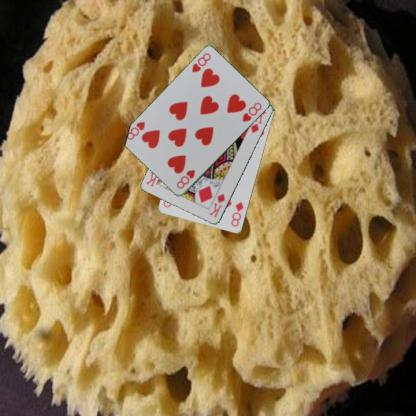8d: (228, 199, 245, 228)
8h: (189, 51, 212, 74), (174, 167, 196, 190)
Kd: (207, 191, 226, 219)
